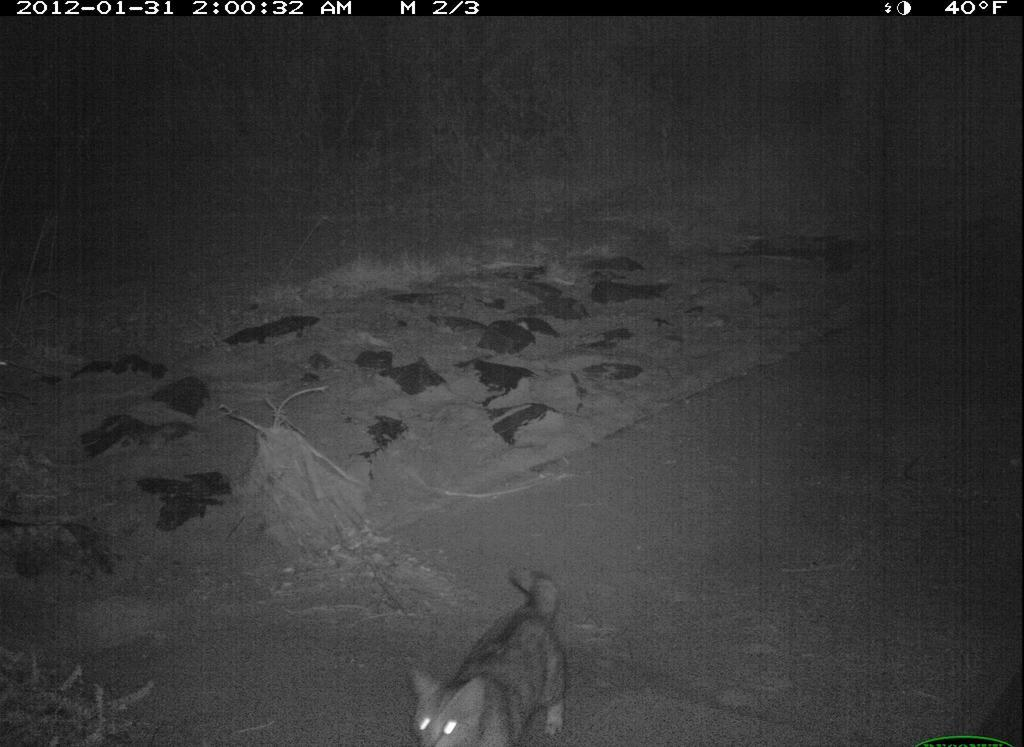cat: (391, 551, 598, 744)
